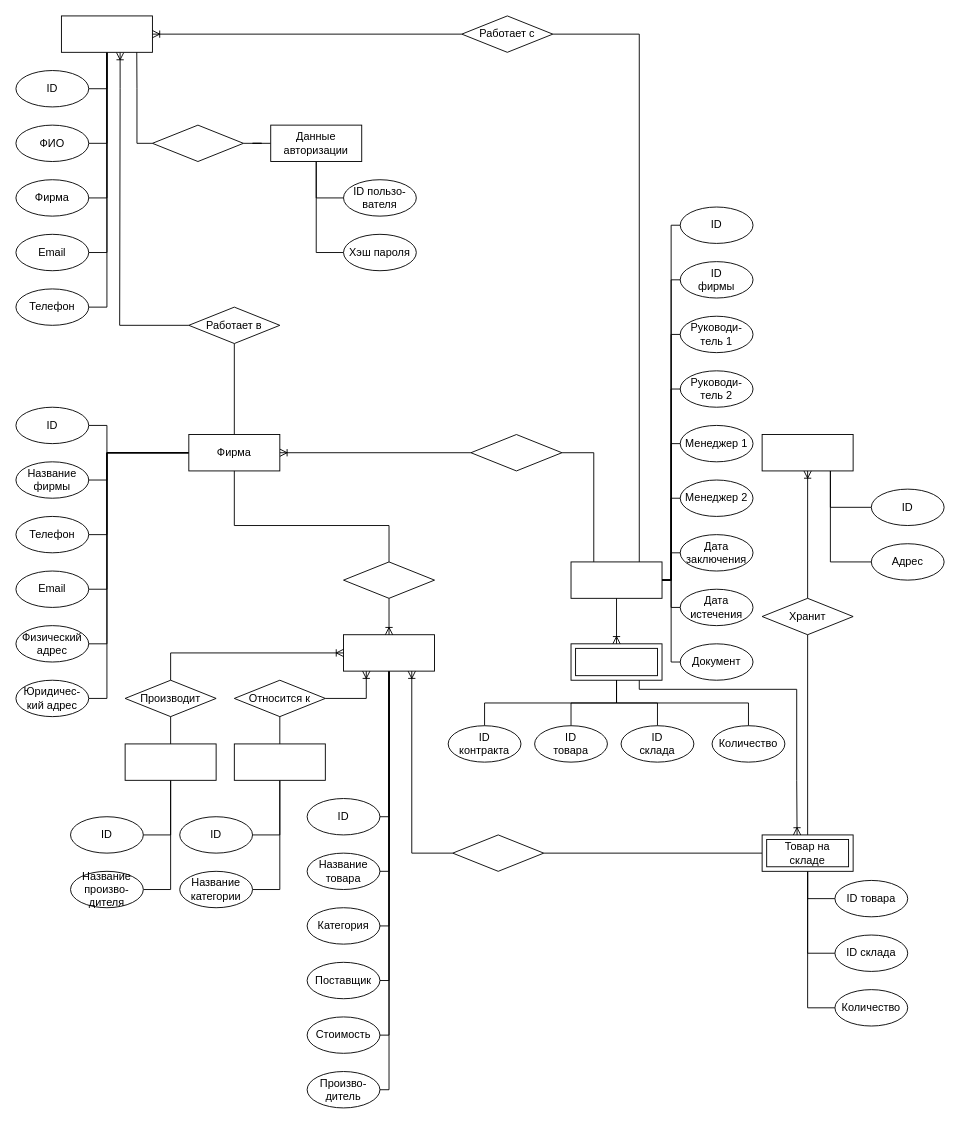
This 960x1124 diagram has some shape labels left out. The centre of each missing label's shape, as x and y in pixels:
Заключает: point (516, 452)
Использует: point (197, 143)
Категория товара: point (279, 761)
Контракт: point (616, 579)
Позиция контракта: point (616, 661)
Пользователь: point (106, 33)
Поставляет: point (389, 579)
Производитель: point (170, 761)
Склад: point (807, 452)
Товар: point (389, 652)
Хранится как: point (498, 852)
